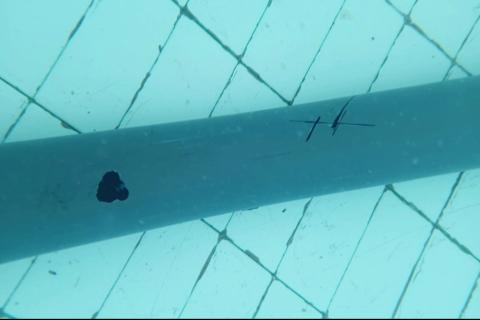kebocoran: (95, 168, 130, 205)
keretakan: (290, 97, 375, 142)
